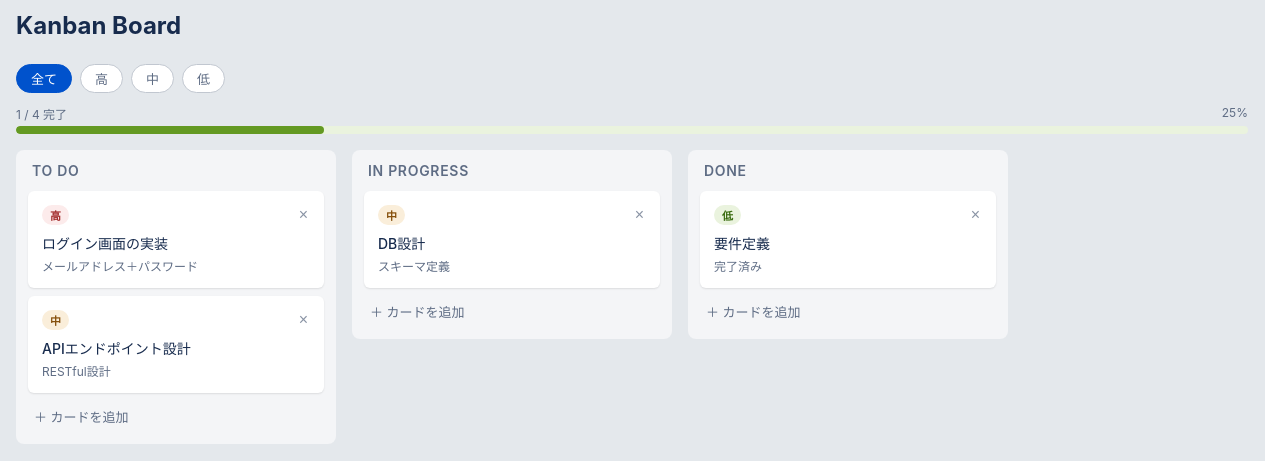
Test case: Kanban Board › filter by priority hides non-matching cards
The image size is (1265, 461).
Expected: the text "ログイン画面の実装" is shown, 42,235 -> 168,252
Expected: the text "APIエンドポイント設計" is shown, 42,340 -> 191,357
// '高' フィルターボタン（button要素）をクリック
What coordinates should you click on to do the following:
click the button "高"
I would click on:
 (102, 78)
Its box is 80,64 -> 123,93.
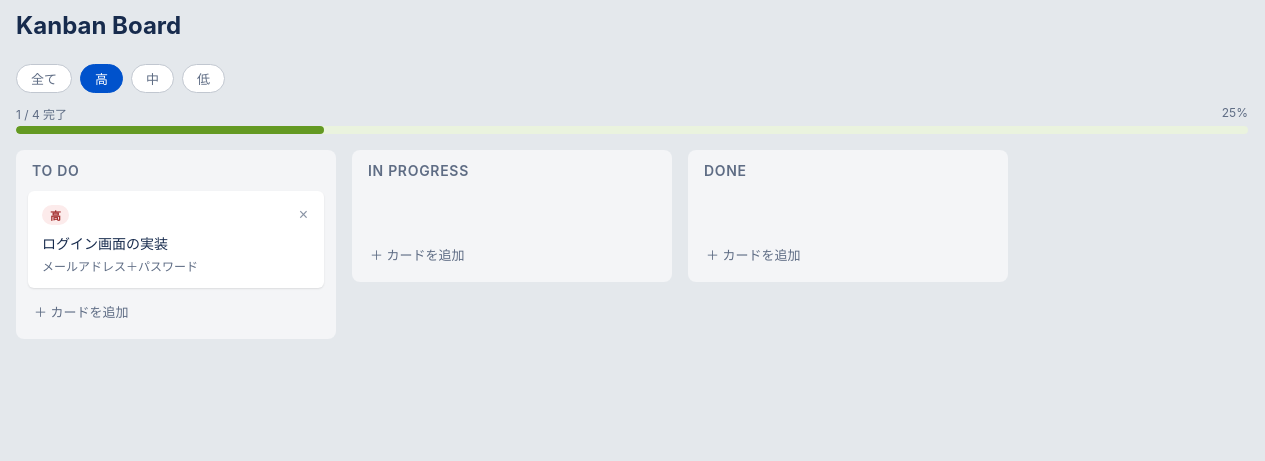
Expected: the text "ログイン画面の実装" is shown, 42,235 -> 168,252
Expected: the text "APIエンドポイント設計" is gone
